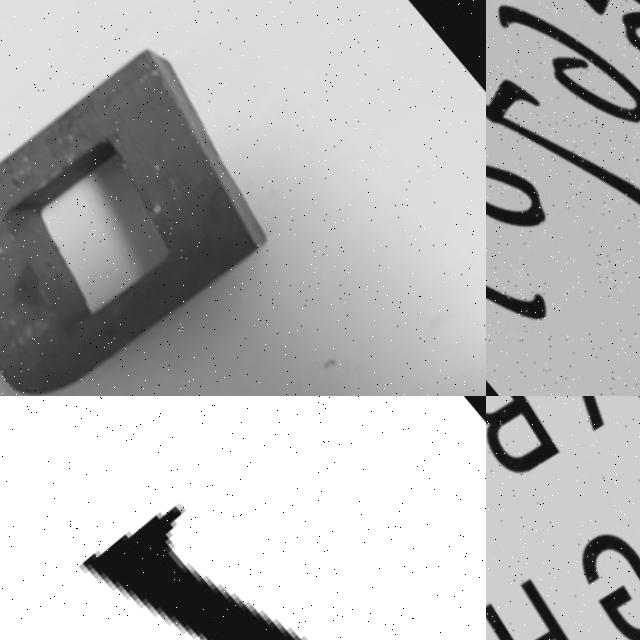5: (555, 0, 640, 160)
6: (486, 0, 640, 179)
7: (486, 20, 640, 278)
8: (486, 47, 575, 284)
9: (486, 147, 561, 376)
D: (0, 40, 289, 396)
I: (0, 396, 452, 640)
